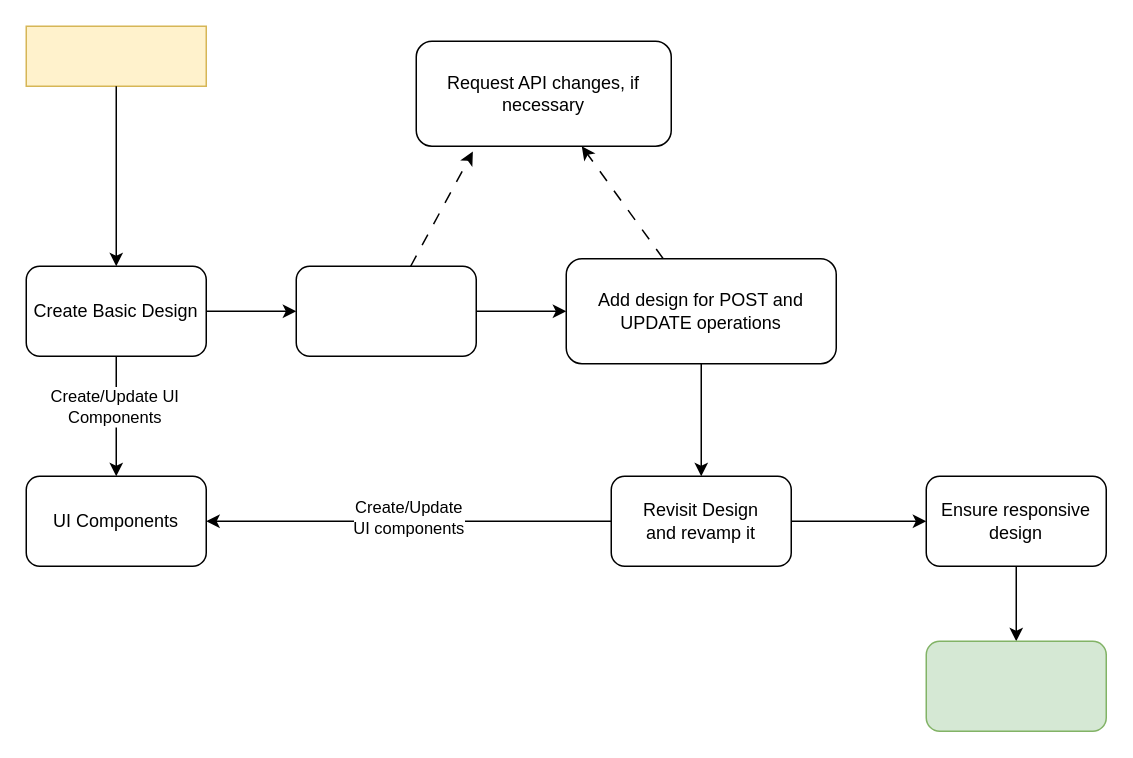
The diagram is 1133 pixels wide and 758 high, and some of its shapes have lost their labels. Each missing label, with the centre of its shape:
Feature Request/Update: (x=115, y=55)
Finalize design and push changes: (x=1015, y=685)
Integrate Backend APIs and fetch data: (x=385, y=310)
